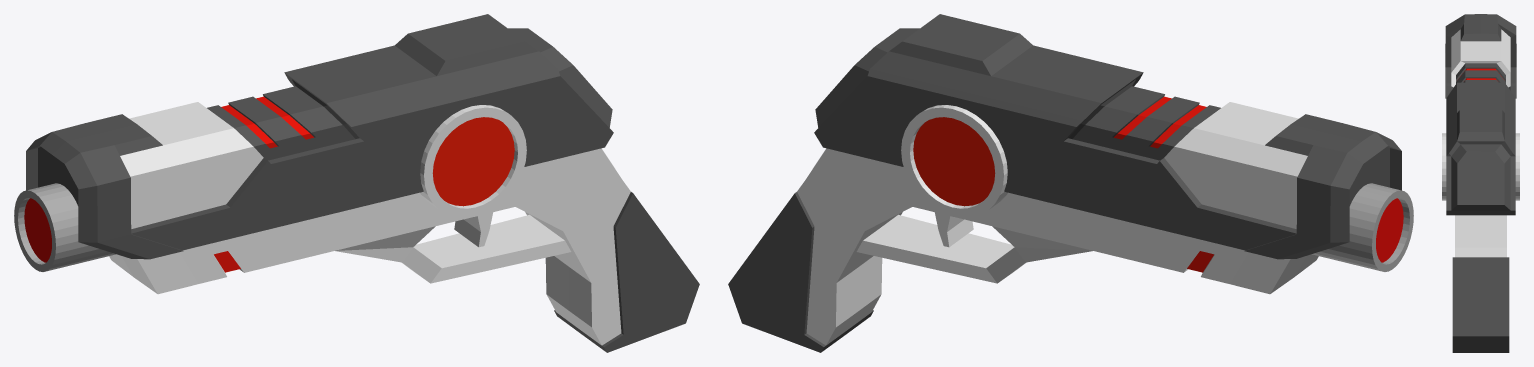
Rendered from gun3.fbx.
3 views of the same model, side by side, from view 1: azimuth 30°, elevation 25°; view 2: azimuth 150°, elevation 25°; view 3: azimuth 270°, elevation 25° (orthographic). The views are drawn at different scales.
Parts seen in each view (by area): view 1: 立方體.001, 圓柱體.005, 圓柱體.004, 立方體.003; view 2: 立方體.001, 圓柱體.005, 圓柱體.004, 立方體.003; view 3: 立方體.001, 圓柱體.005.
Part boxes in pixels (x1=…): 立方體.001: x1=26, y1=14, x2=699, y2=352; 圓柱體.005: x1=420, y1=105, x2=526, y2=217; 圓柱體.004: x1=14, y1=183, x2=115, y2=271; 立方體.003: x1=454, y1=212, x2=492, y2=247; 立方體.001: x1=728, y1=14, x2=1401, y2=352; 圓柱體.005: x1=901, y1=105, x2=1007, y2=217; 圓柱體.004: x1=1312, y1=183, x2=1413, y2=271; 立方體.003: x1=935, y1=212, x2=973, y2=247; 立方體.001: x1=1445, y1=14, x2=1516, y2=352; 圓柱體.005: x1=1442, y1=133, x2=1519, y2=200.
Bounding box in the file's own units: 338 × 164 × 63.06.
